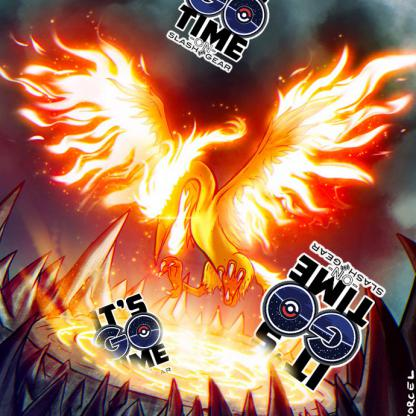Moltres: (5, 33, 416, 298)
